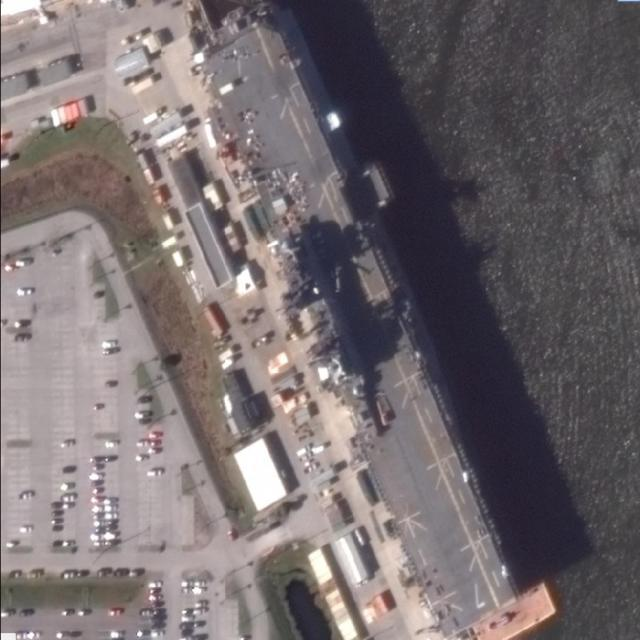Landing: (202, 3, 521, 633)
